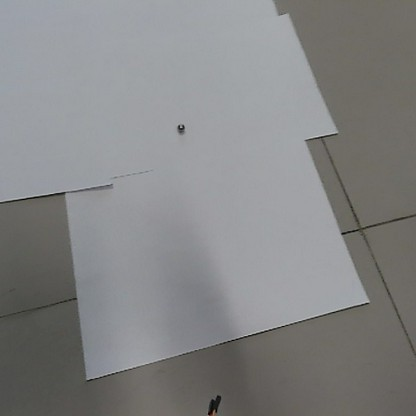ironball: (175, 121, 186, 135)
